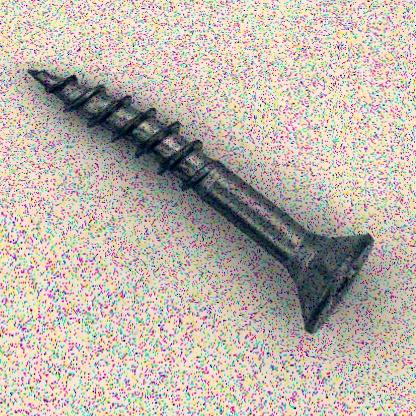metal: (26, 66, 374, 334)
